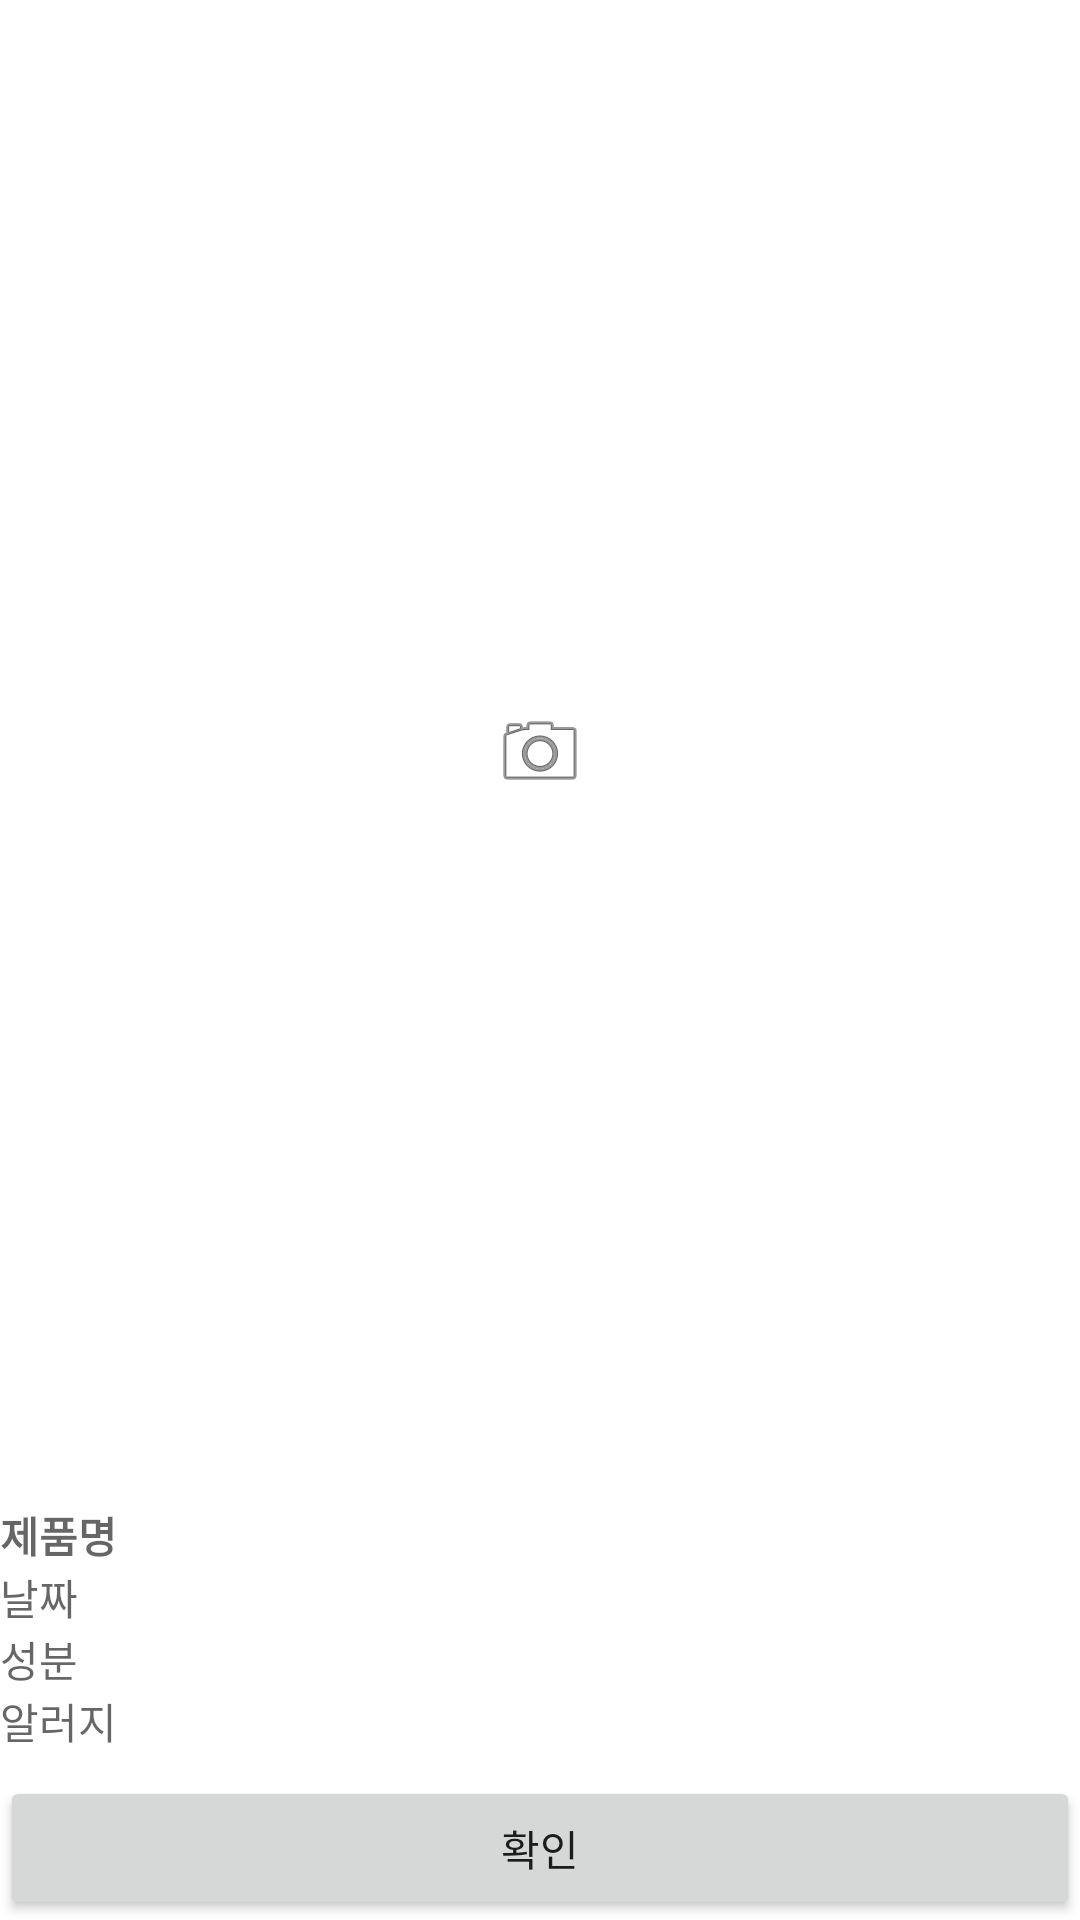

Where to tap for icons on this 1080×1920 app screen, as (x=x, y=y):
camera: (x=540, y=750)
